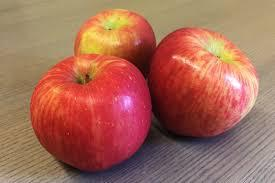Apple: (36, 56, 145, 168), (152, 33, 260, 135), (76, 10, 158, 80)
